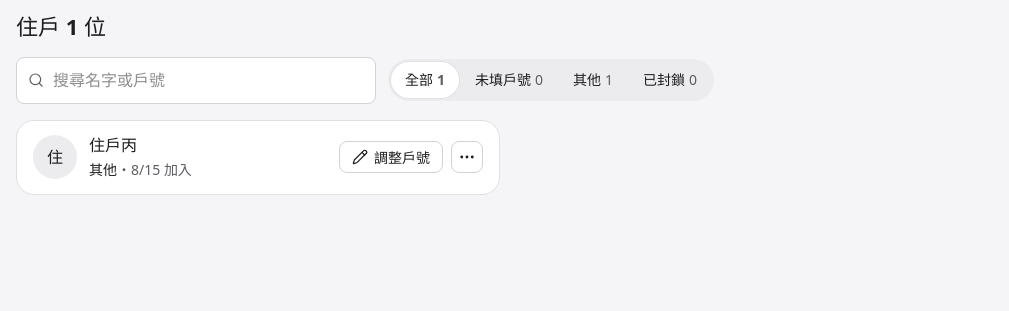
ResidentMemberManagementApp › lets the organizer repair an other member who was mis-clicked into that kind
Expected: the text "其他" is shown, 89,160 -> 117,179
Click the button with aria-label "調整住戶資料 住戶丙". click: (391,157)
box: 339,141 -> 443,173
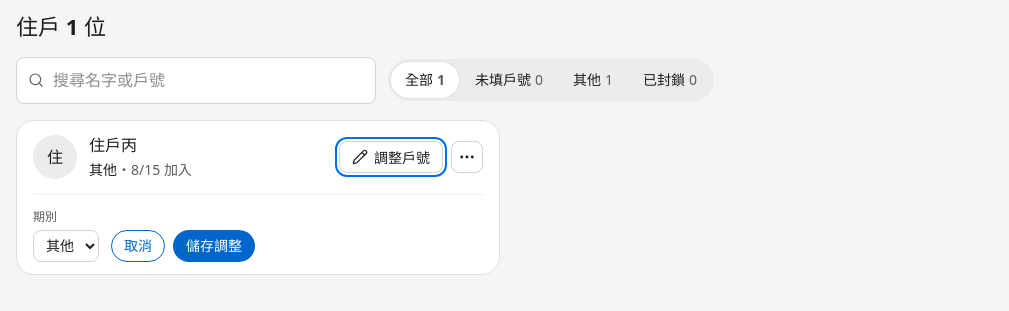
Select "一期" in the dropdown named "住戶丙 期別". click: (66,246)
box: 33,230 -> 99,262
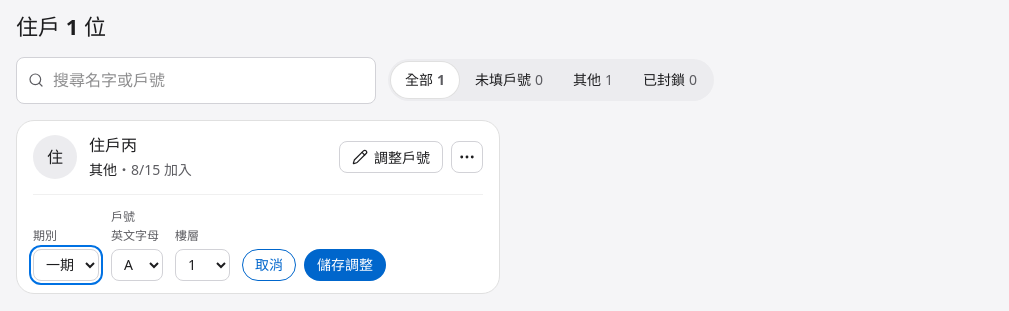
Select "A" in the dropdown named "住戶丙 戶號英文字母". click: (137,265)
box: 111,249 -> 163,281
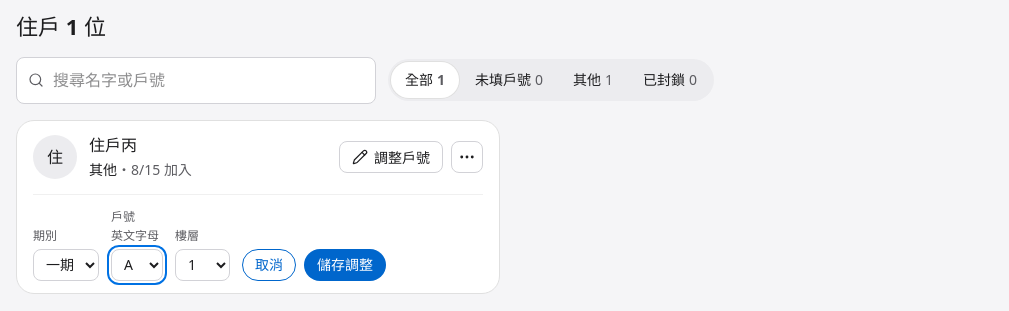
Select "1" in the dropdown named "住戶丙 樓層". click: (202,265)
box: 175,249 -> 230,281
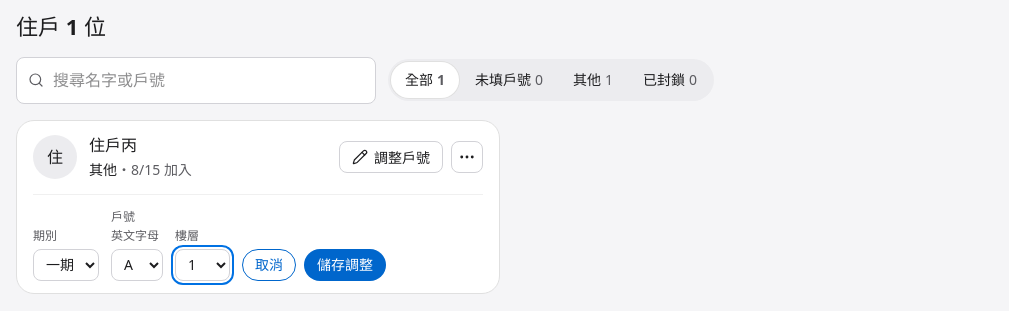
Click the button with aria-label "儲存住戶資料 住戶丙". click: (345,265)
box: 304,249 -> 386,281
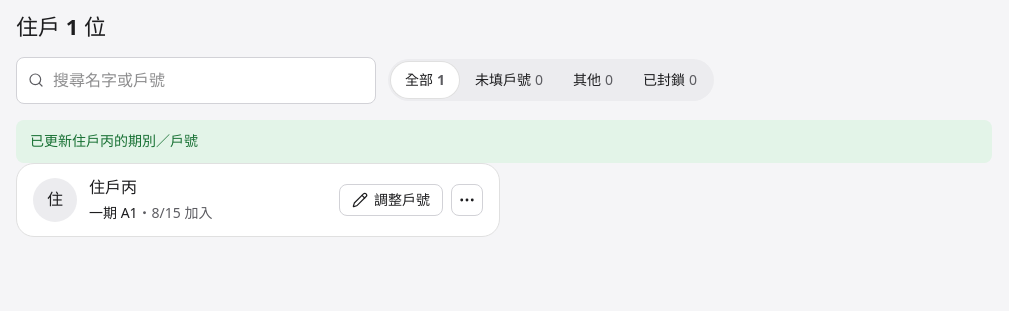
Expected: the text "已更新住戶丙的期別／戶號" is shown, 30,130 -> 198,153
